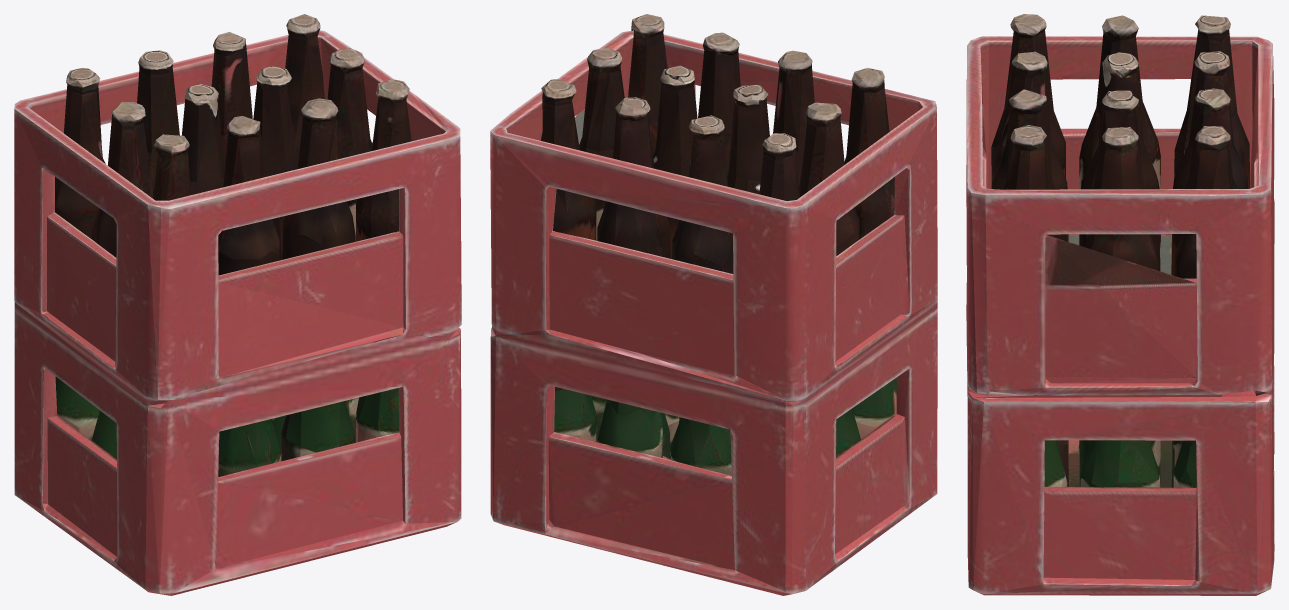
Rendered from bottle_crate.glb.
3 renders of one model, left to right at view 1: azimuth 30°, elevation 25°; view 2: azimuth 150°, elevation 25°; view 3: azimuth 270°, elevation 25°, orthographic. The views are drawn at different scales.
Bounding box in the file's own units: 1.45 × 1.9 × 1.18.
1 material, 1 textured.
